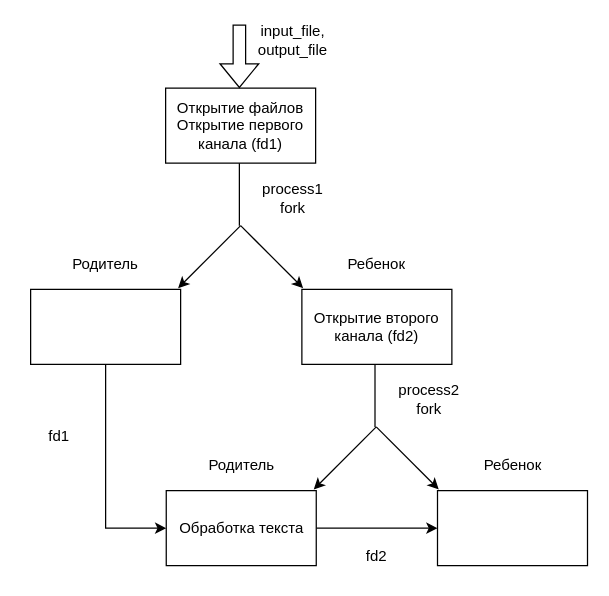
This 609x596 diagram has some shape labels left out. Each missing label, with the centre of its shape:
"Запись текста в output_file Закрытие файлов" goes at [512,527].
"Считывание текста из input_file" goes at [105,326].
